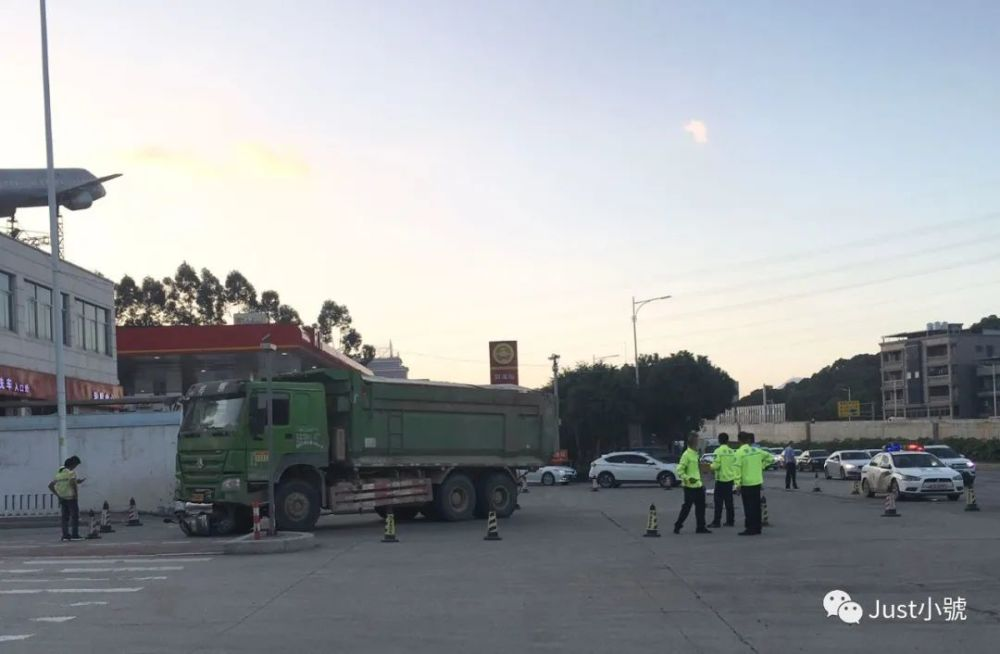garbagetruck: (180, 366, 562, 531)
